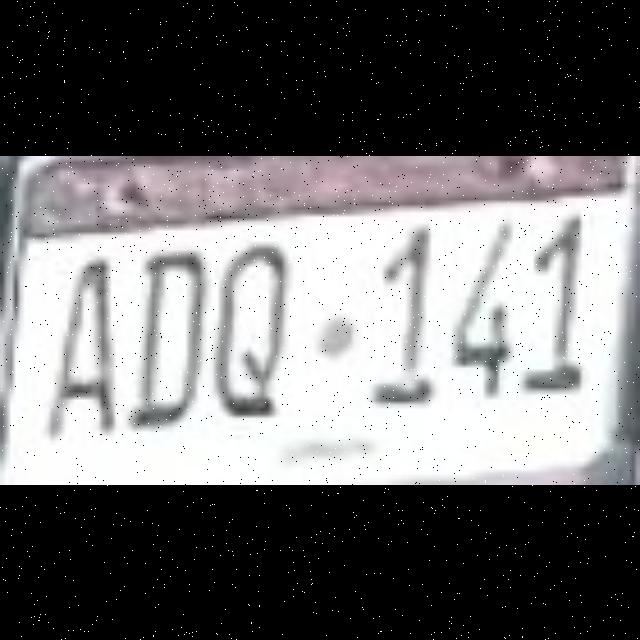1: (352, 233, 434, 411), (517, 233, 599, 411)
4: (434, 233, 516, 411)
A: (35, 250, 117, 428)
D: (125, 243, 207, 421)
Q: (216, 238, 298, 416)
